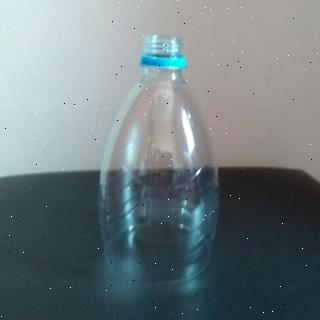Plastic-bottle: (98, 32, 224, 288)
